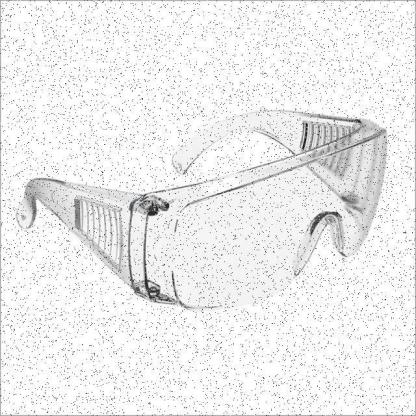oculos: (11, 109, 393, 315)
